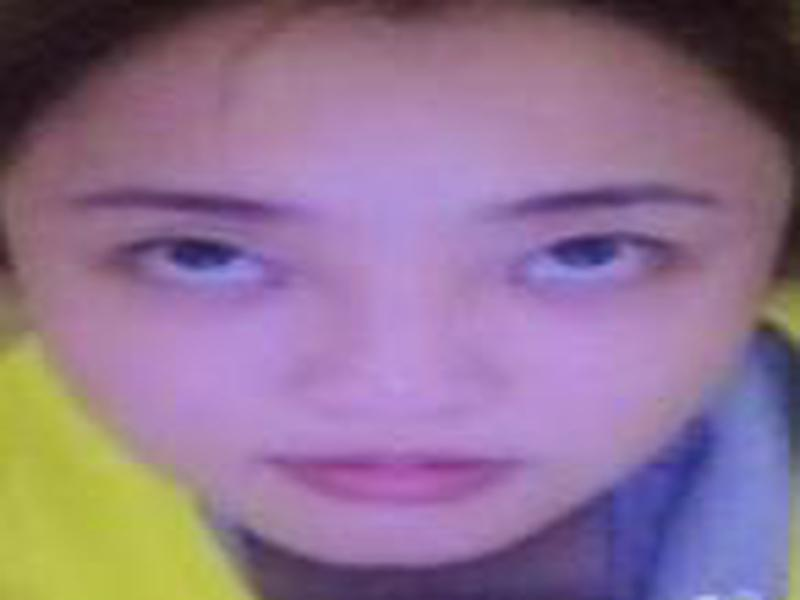without_mask: (2, 68, 791, 567)
